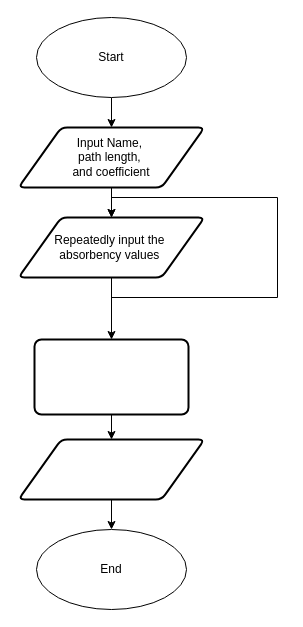
Some shapes in this 303 by 627 pixel diagram are drawn without their labels. The shapes that lost their labels are listed below. From the top down, each one's centre as x and y in pixels, then its label:
At point 111,376: "Calculate the concentration for each value".
At point 111,469: "Print the values".
